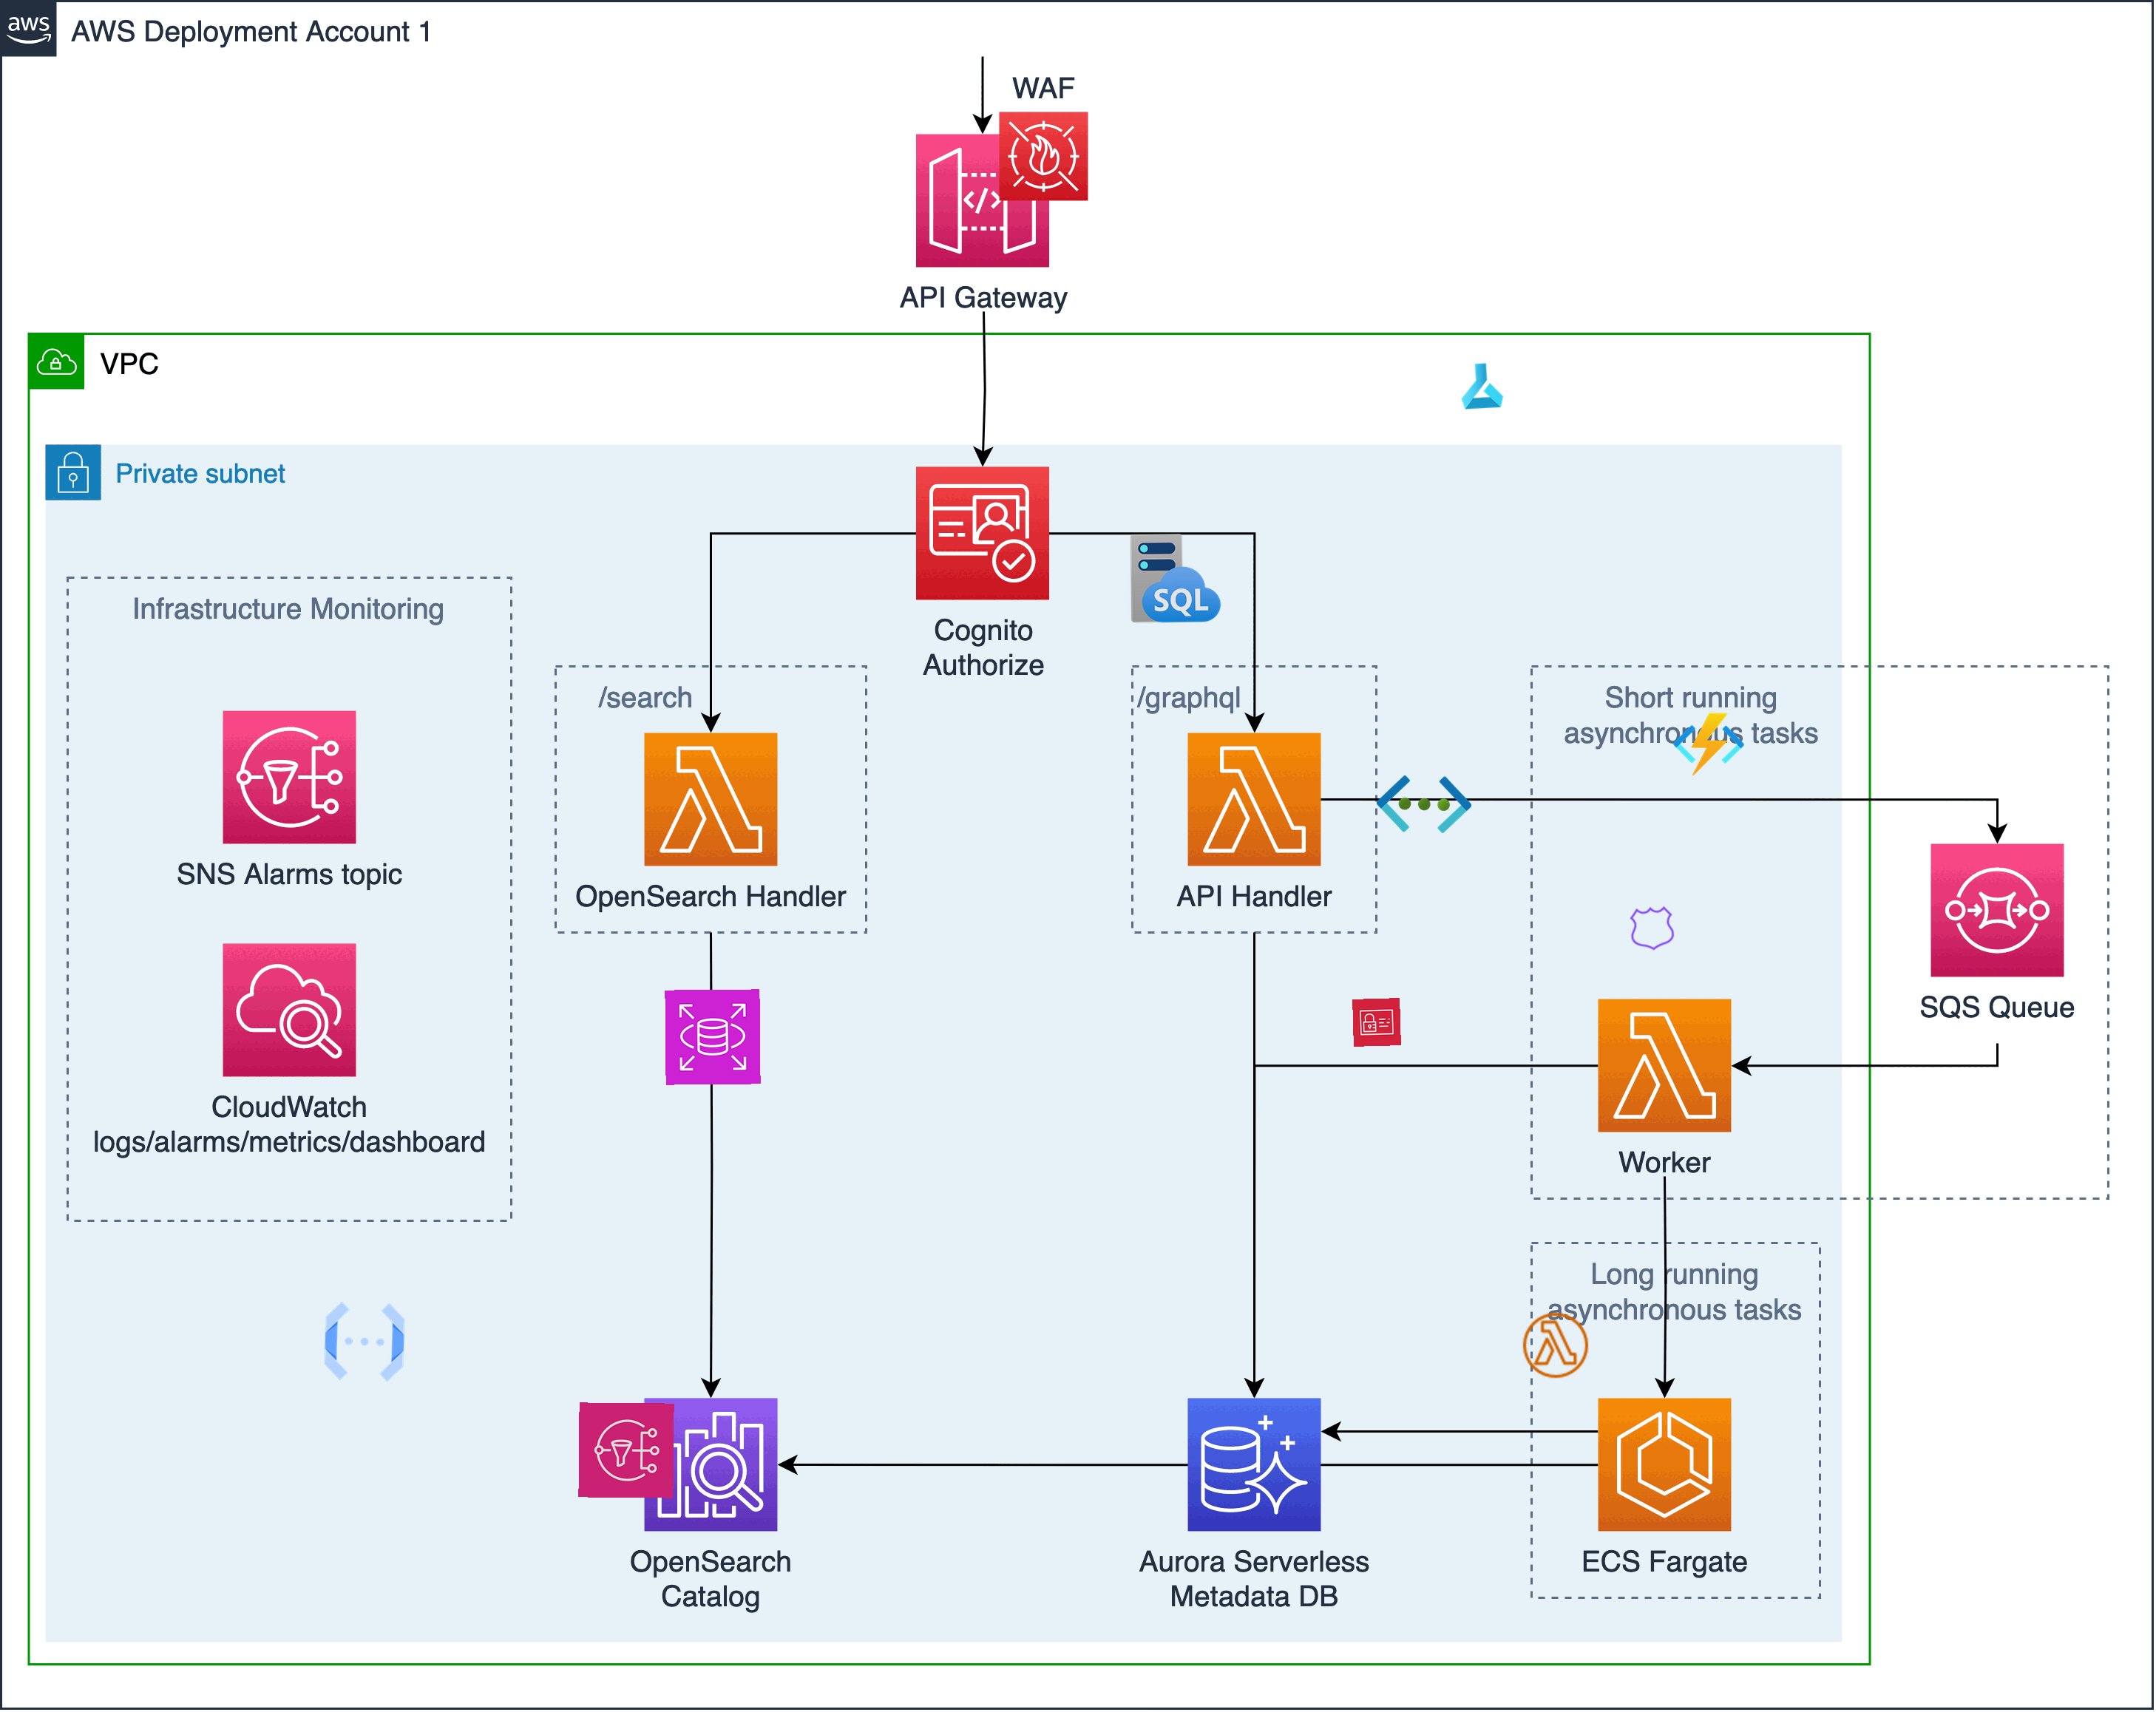aws_amazon_rds: (665, 990, 761, 1086)
aws_amazon_simple_notification_service: (578, 1402, 674, 1499)
aws_identity_and_access_management: (1353, 999, 1402, 1047)
aws_lambda_lambda_function: (1519, 1310, 1592, 1381)
aws_route_53_hosted_zone: (1626, 902, 1678, 955)
azure_function_apps: (1673, 708, 1745, 780)
azure_machine_learning: (1456, 360, 1507, 411)
azure_sql_managed_instance: (1127, 530, 1223, 626)
azure_virtual_networks: (1376, 755, 1474, 853)
gcp_cloud_functions: (315, 1292, 413, 1390)
